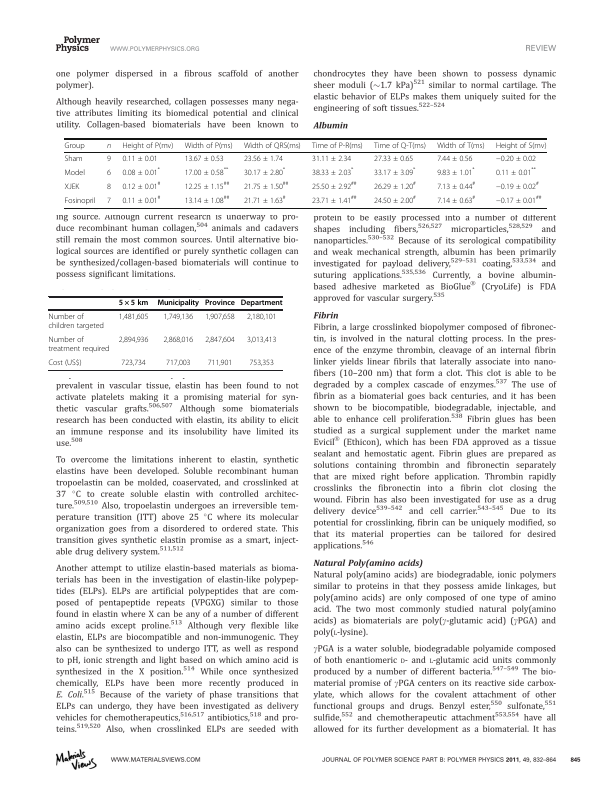borderless: (64, 137, 547, 208), (47, 295, 283, 370)
cell: (48, 335, 110, 353), (48, 312, 105, 330), (243, 141, 302, 150), (495, 194, 542, 205), (184, 180, 230, 191), (243, 180, 289, 191), (311, 180, 357, 191), (184, 194, 230, 205), (311, 194, 357, 205), (184, 166, 229, 177), (495, 180, 540, 191), (373, 141, 427, 150), (373, 180, 417, 191), (243, 194, 287, 205), (373, 194, 417, 205), (121, 141, 174, 150), (311, 141, 364, 150), (243, 166, 286, 177), (311, 166, 354, 177), (373, 166, 416, 177), (495, 141, 547, 150), (495, 166, 537, 177), (436, 141, 486, 150), (184, 141, 233, 150), (121, 166, 161, 177), (436, 166, 476, 177), (121, 180, 161, 191), (436, 180, 476, 191), (121, 194, 161, 205), (436, 194, 476, 205), (156, 299, 200, 308), (240, 299, 283, 308), (495, 154, 537, 163), (184, 154, 225, 163), (243, 154, 284, 163), (311, 154, 352, 163), (373, 154, 414, 163), (121, 154, 159, 163), (436, 154, 473, 163), (162, 312, 194, 322), (204, 312, 236, 322), (48, 358, 83, 367), (118, 312, 149, 322), (246, 312, 277, 322), (204, 299, 236, 308), (162, 335, 194, 344), (204, 335, 236, 344), (64, 196, 96, 205), (118, 299, 149, 308), (118, 335, 149, 344), (246, 335, 277, 344), (120, 358, 147, 367), (248, 358, 275, 367), (165, 358, 191, 367), (207, 358, 233, 367), (64, 168, 86, 177), (64, 141, 85, 150), (64, 154, 83, 163), (64, 182, 80, 191), (106, 154, 112, 163), (106, 168, 112, 177), (106, 182, 112, 191), (106, 196, 112, 205), (106, 143, 112, 149)
